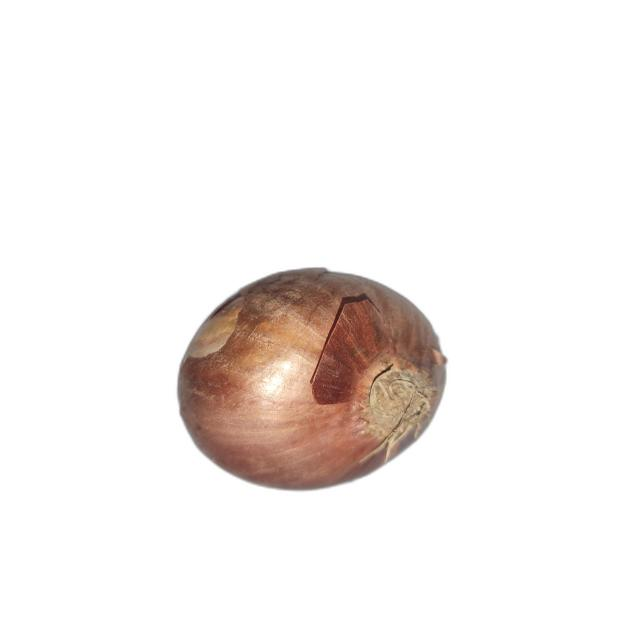onion: (176, 267, 448, 492)
